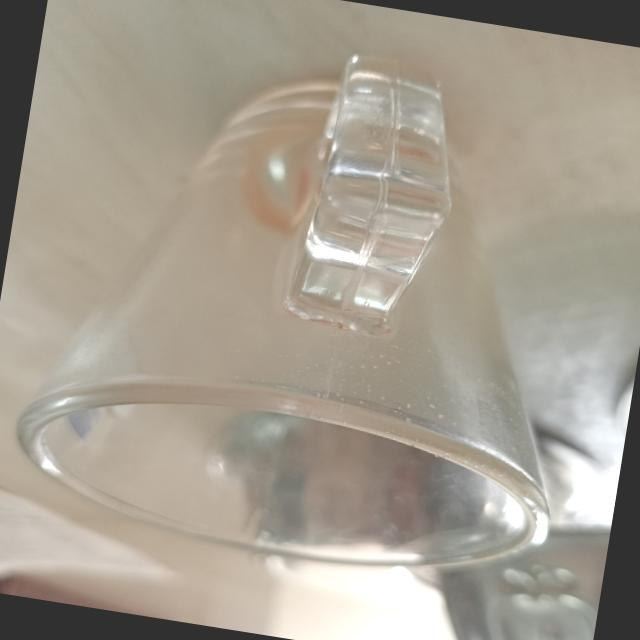glass-VX4N: (5, 11, 631, 592)
